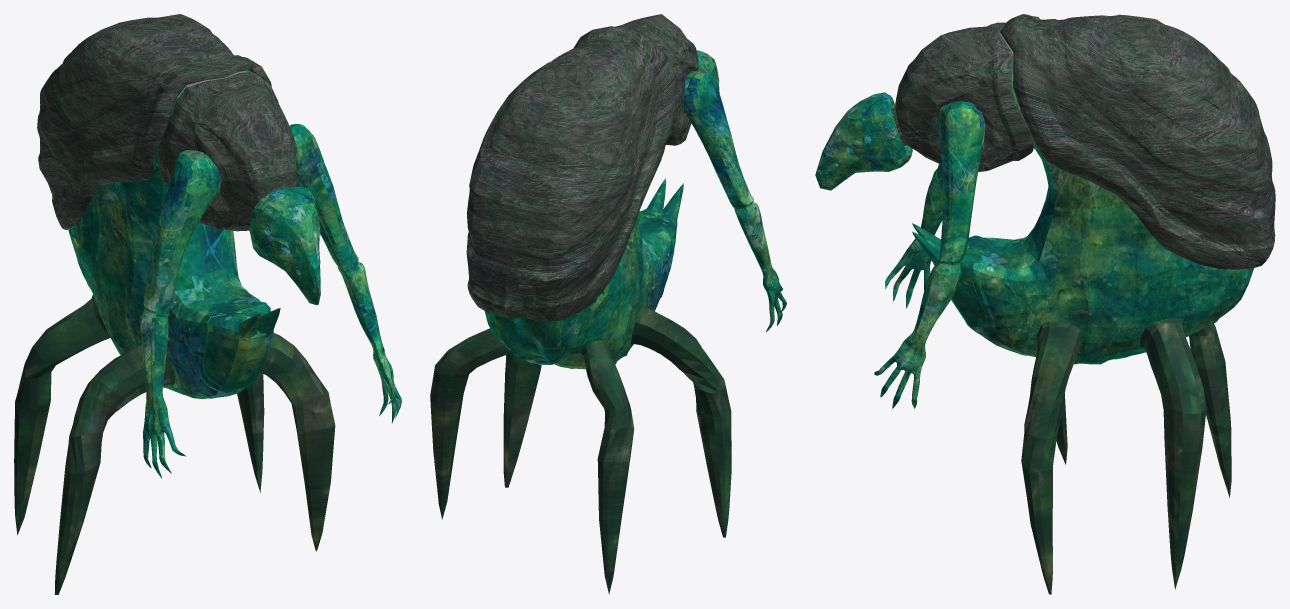
File: Andar.0024.obj
3 views of the same model, side by side, from view 1: azimuth 30°, elevation 25°; view 2: azimuth 150°, elevation 25°; view 3: azimuth 270°, elevation 25° (orthographic). The views are drawn at different scales.
Bounding box in the file's own units: 2.08 × 3.94 × 3.18.
Materials: 5 (4 with a texture image).
